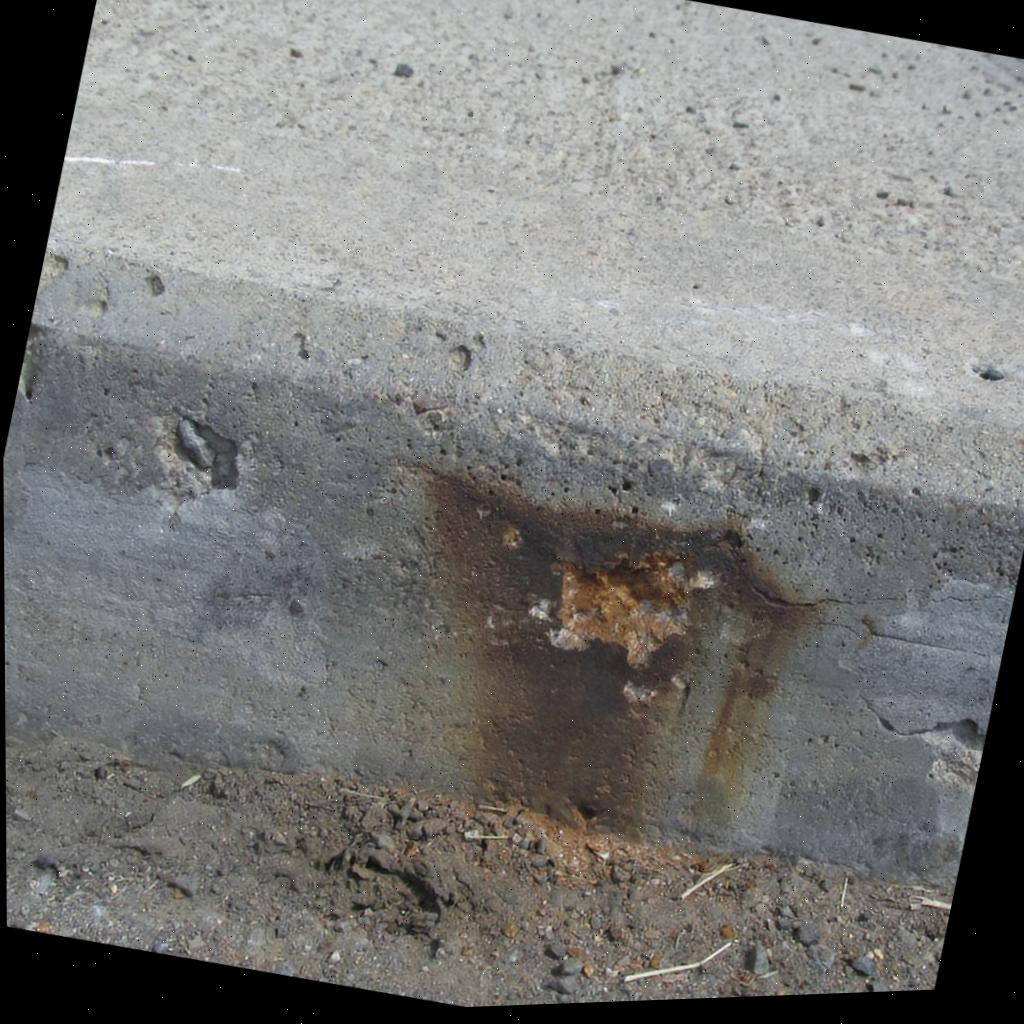spalling: (549, 553, 714, 667), (157, 417, 239, 497), (921, 719, 986, 793)
